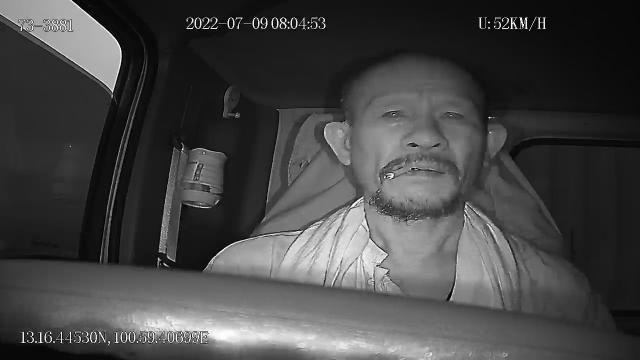SafeDriving: (432, 99, 472, 128), (374, 98, 414, 127)
Smoking: (383, 166, 413, 180)
